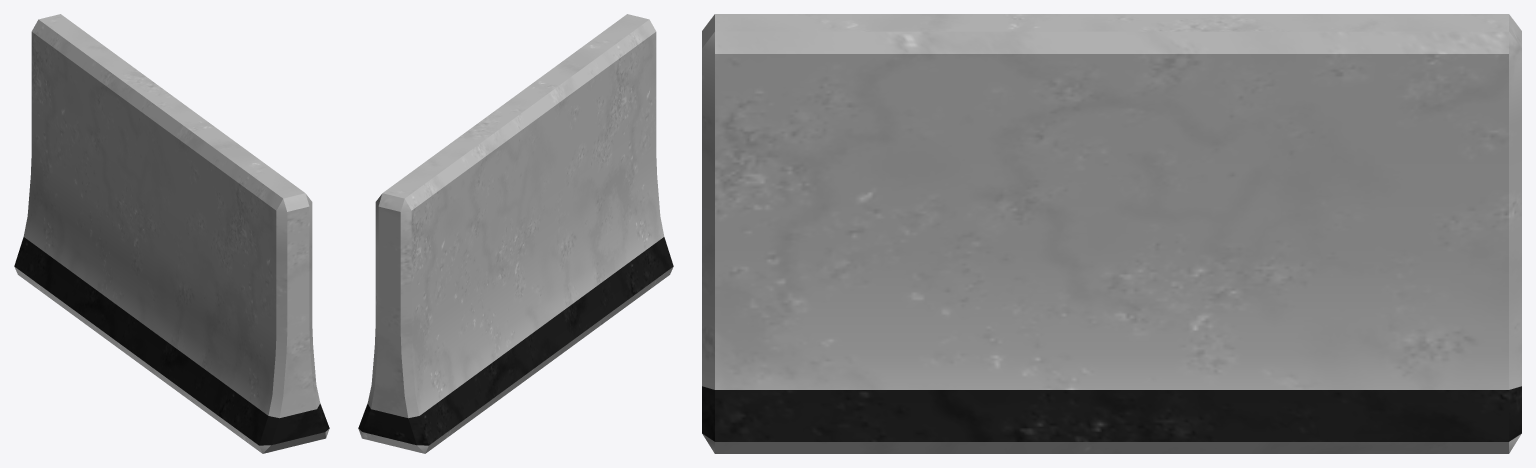
Rendered from Barricade white taller.fbx.
The picture shows the model from 3 angles, left to right: view 1: azimuth 30°, elevation 25°; view 2: azimuth 150°, elevation 25°; view 3: azimuth 270°, elevation 25°; orthographic projection. The views are drawn at different scales.
Parts seen in each view (by area): view 1: Cube; view 2: Cube; view 3: Cube.
Boxes of the visible parts, x1,y1,x2,y2 form: Cube: (14, 14, 329, 453); Cube: (358, 14, 673, 453); Cube: (702, 14, 1521, 453).
Size of the model in its own units: 82.98 by 281 by 514.
